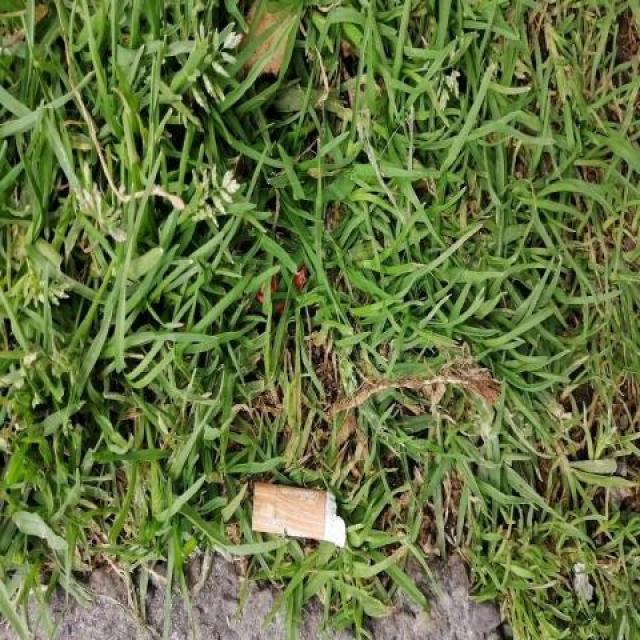non-organic waste: (245, 478, 352, 550)
